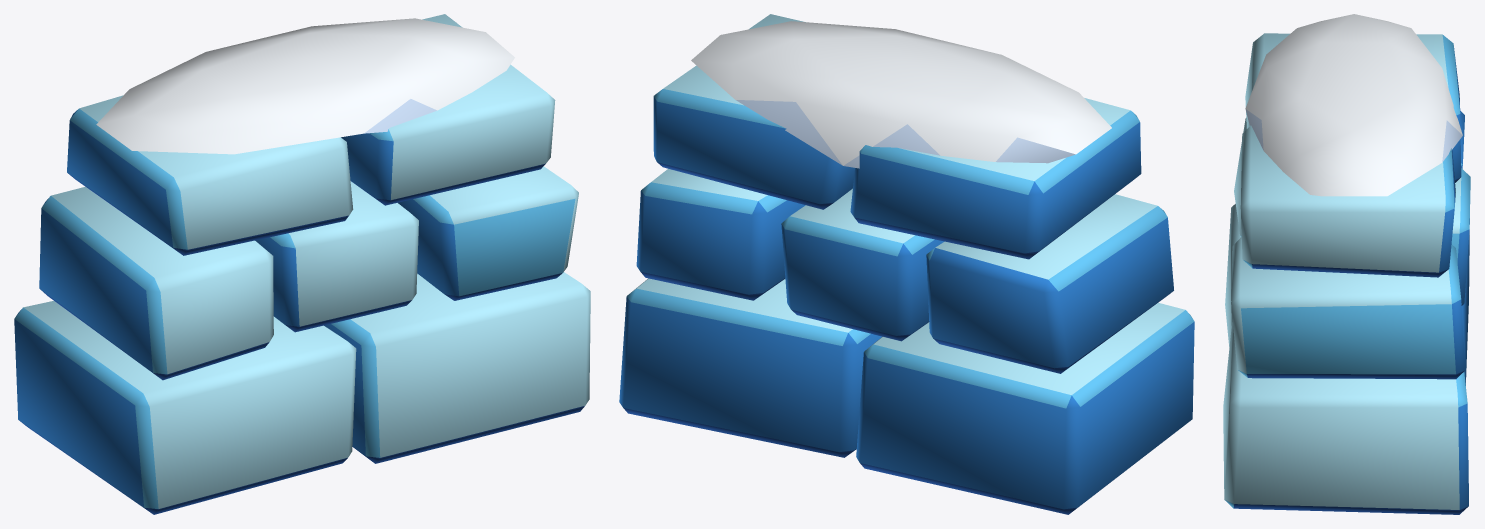
File: IceWall.fbx
The picture shows the model from 3 angles, left to right: view 1: azimuth 30°, elevation 25°; view 2: azimuth 150°, elevation 25°; view 3: azimuth 270°, elevation 25°; orthographic projection. The views are drawn at different scales.
Parts seen in each view (by area): view 1: IceWall; view 2: IceWall; view 3: IceWall.
Boxes of the visible parts, x1,y1,x2,y2 form: IceWall: [14, 14, 590, 514]; IceWall: [619, 14, 1194, 514]; IceWall: [1223, 14, 1470, 514].
Size of the model in its own units: 2.01 by 1.51 by 1.
Materials: 1 (1 with a texture image).
